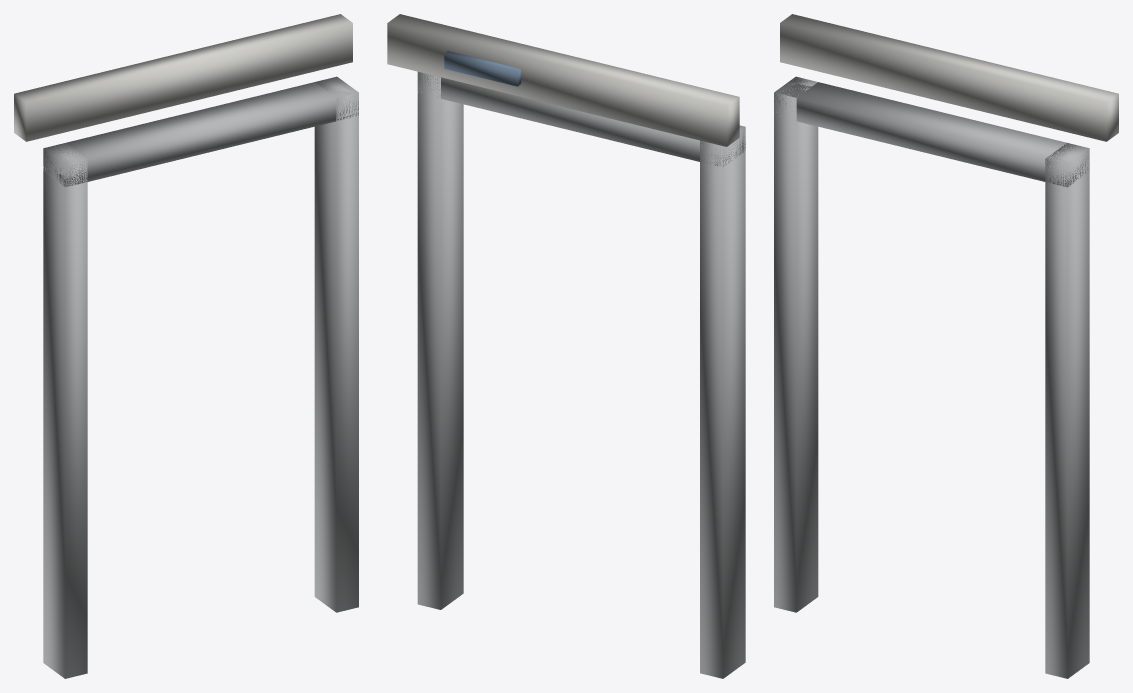
File: doorway_hospital_w106_h200_d16.glb
The picture shows the model from 3 angles, left to right: view 1: azimuth 30°, elevation 25°; view 2: azimuth 150°, elevation 25°; view 3: azimuth 330°, elevation 25°; orthographic projection. The views are drawn at different scales.
Parts seen in each view (by area): view 1: world; view 2: world; view 3: world.
Boxes of the visible parts, x1=… form: world: x1=14, y1=14, x2=358, y2=678; world: x1=387, y1=14, x2=745, y2=678; world: x1=774, y1=14, x2=1118, y2=678.
Bounding box in the file's own units: 1.39 × 2.3 × 0.28.
